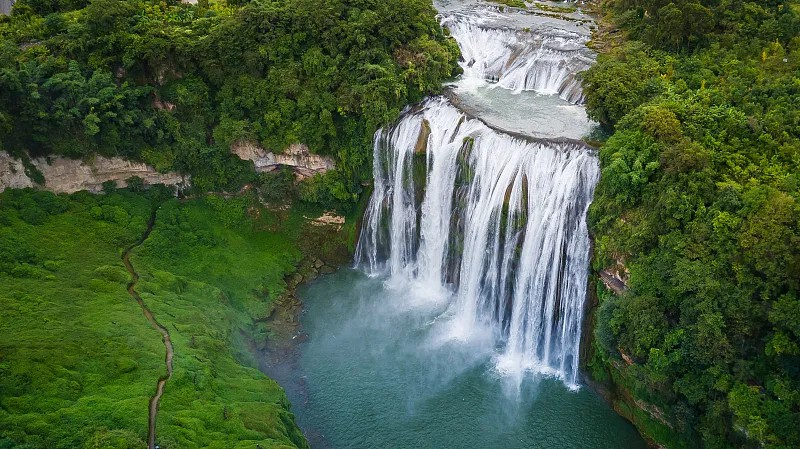Huangguoshu: (358, 2, 602, 386)
